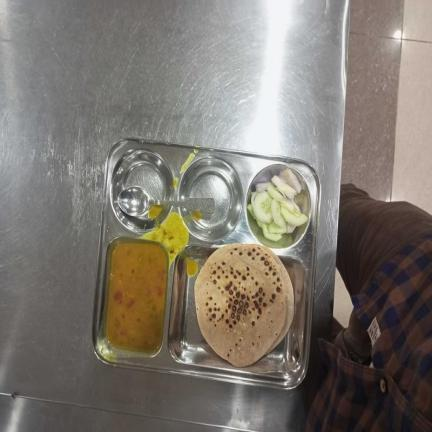Chana Dal: (104, 243, 169, 353)
Plate: (91, 138, 321, 390)
Roti: (195, 243, 294, 368)
Salad: (247, 168, 308, 240)
